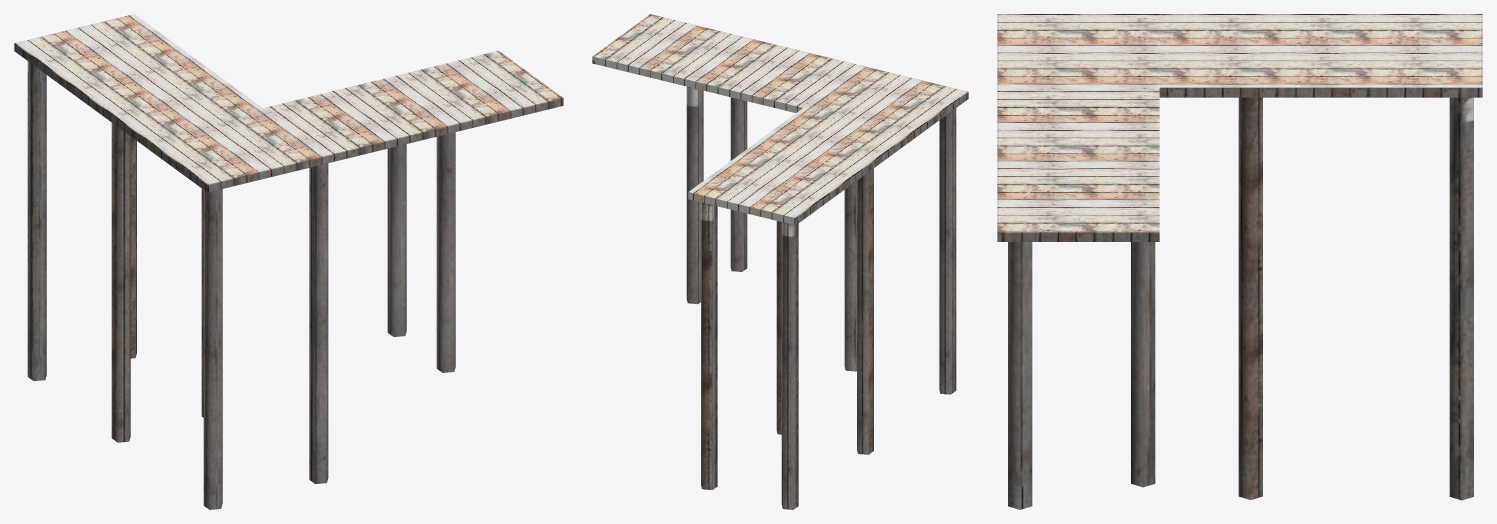
File: Pier3.fbx
The picture shows the model from 3 angles, left to right: view 1: azimuth 30°, elevation 25°; view 2: azimuth 150°, elevation 25°; view 3: azimuth 270°, elevation 25°; orthographic projection. The views are drawn at different scales.
Parts seen in each view (by area): view 1: Gom_Pier3_00; view 2: Gom_Pier3_00; view 3: Gom_Pier3_00.
Part boxes in pixels (box(x1,y1,x2,y2)): Gom_Pier3_00: box(14, 14, 563, 509); Gom_Pier3_00: box(592, 14, 968, 509); Gom_Pier3_00: box(997, 14, 1482, 509).
Size of the model in its own units: 8.99 by 8 by 8.45.
